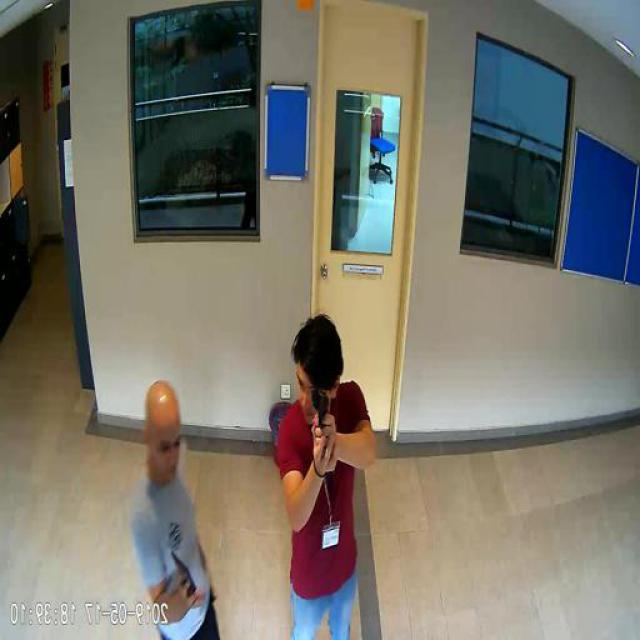Gun: (315, 385, 331, 453)
